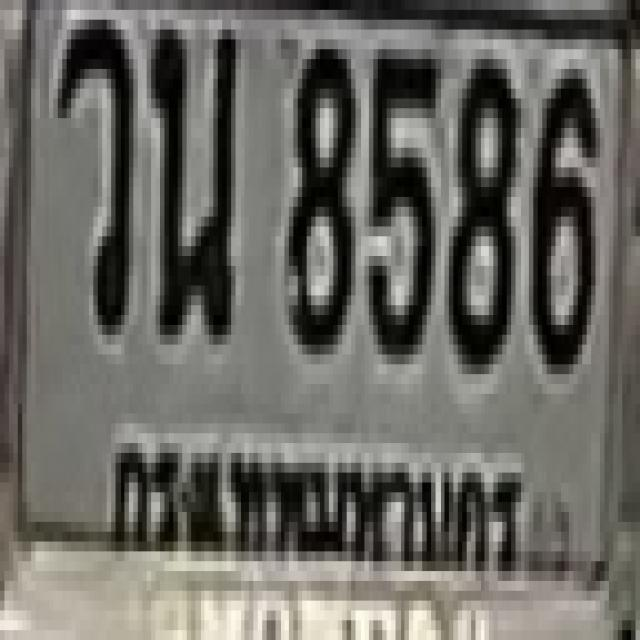5: (364, 39, 436, 354)
6: (529, 59, 595, 364)
8: (447, 49, 513, 364), (285, 39, 351, 344)
A25: (149, 15, 233, 330)
A37: (53, 10, 129, 325)
BKK: (103, 408, 532, 606)
